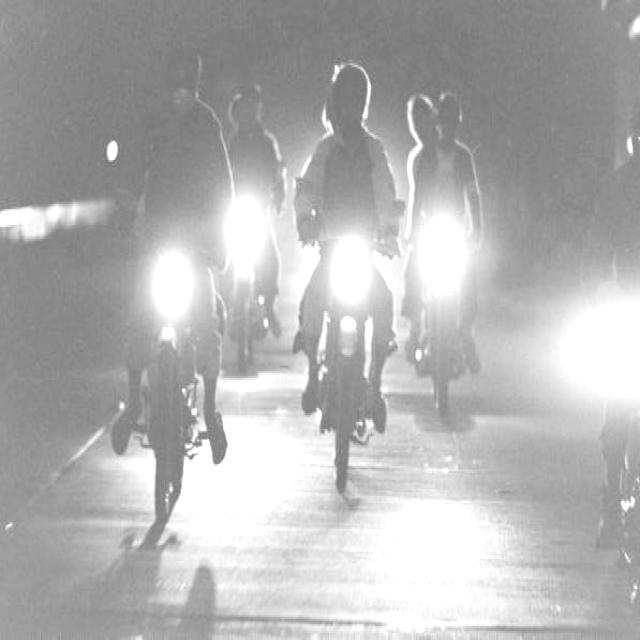Motorbike: (120, 175, 242, 530), (282, 170, 395, 507)
